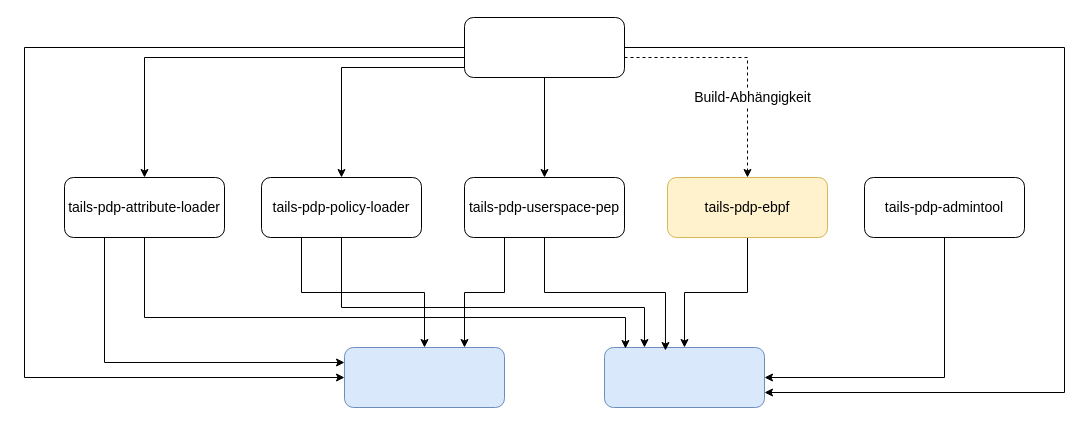
Some shapes in this 1090 by 425 pixel diagram are drawn without their labels. The box of each missing label's shape, as (x1, y1, x2, y2) in pixels:
tails-pdp: (464, 16, 624, 78)
tails-pdp-common: (604, 346, 764, 408)
tails-pdp-userspace-common: (344, 346, 504, 408)
